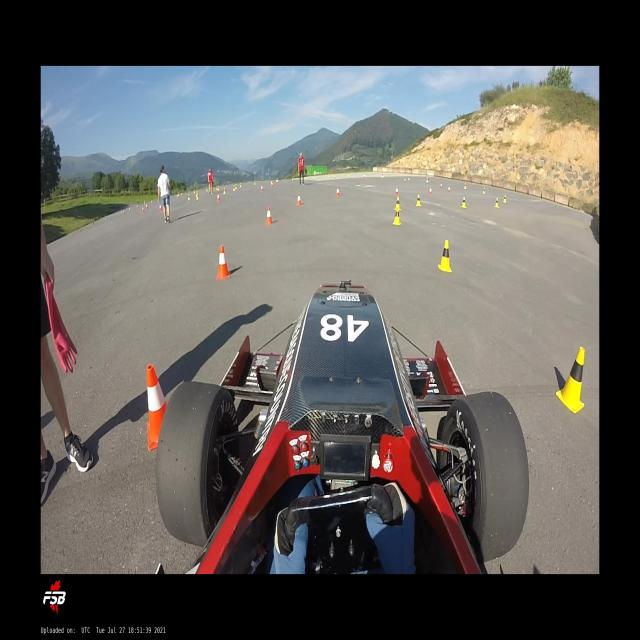orange_cone: (146, 364, 167, 451), (216, 244, 231, 280), (266, 206, 273, 225), (296, 193, 302, 206), (336, 187, 340, 197), (395, 187, 399, 196), (217, 194, 221, 201), (429, 187, 432, 196), (440, 182, 442, 190), (261, 185, 263, 192), (448, 186, 450, 193), (160, 205, 162, 211), (146, 204, 148, 209), (142, 207, 144, 212), (137, 204, 139, 208), (272, 182, 273, 187)
yellow_cone: (555, 346, 585, 414), (438, 239, 452, 273), (393, 206, 401, 225), (394, 197, 401, 210), (416, 194, 422, 206), (461, 196, 466, 208), (494, 197, 499, 208), (502, 194, 507, 203), (196, 193, 199, 200), (482, 187, 485, 194), (188, 194, 191, 200), (464, 182, 466, 190), (224, 188, 226, 194), (254, 180, 256, 186), (233, 186, 235, 191), (235, 185, 237, 190), (427, 177, 428, 182), (240, 183, 241, 187)
